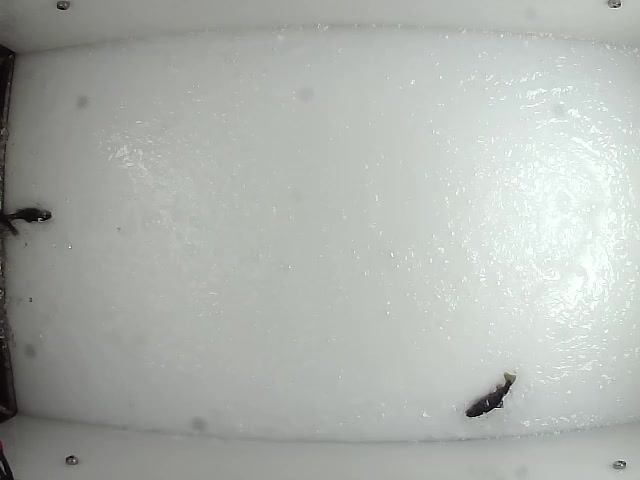fish: (462, 371, 519, 418), (1, 207, 55, 225)
